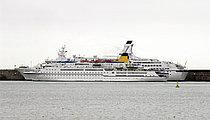Ship: (16, 38, 195, 89)
